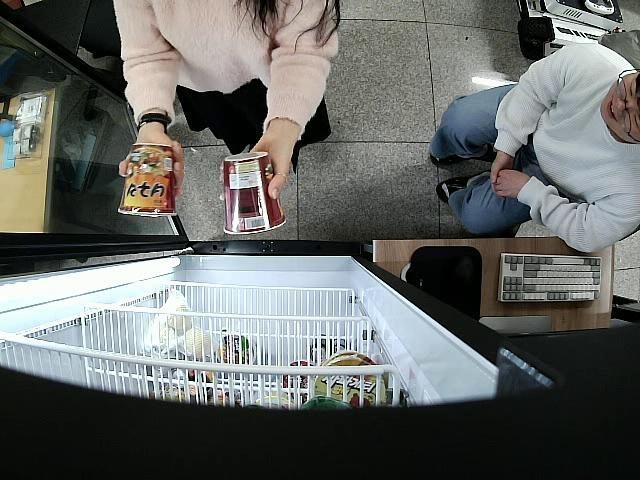06_nuguri_S: (223, 152, 286, 234), (118, 142, 178, 217)
